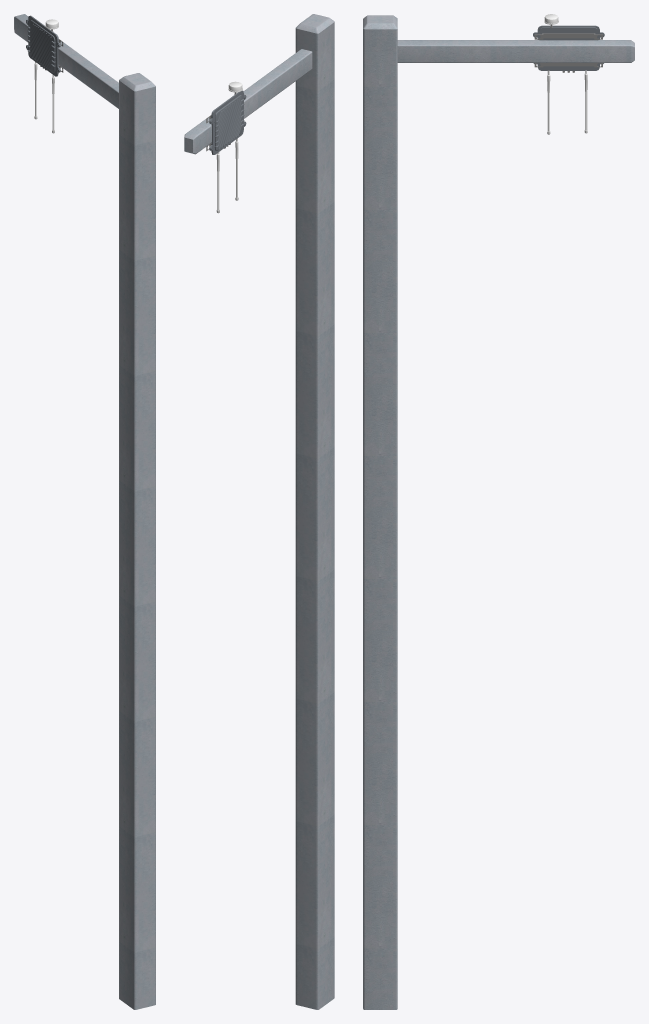
File: RSU_2.FBX
The picture shows the model from 3 angles, left to right: view 1: azimuth 30°, elevation 25°; view 2: azimuth 150°, elevation 25°; view 3: azimuth 270°, elevation 25°; orthographic projection. The views are drawn at different scales.
Parts seen in each view (by area): view 1: RSU_2; view 2: RSU_2; view 3: RSU_2.
Part boxes in pixels (bbox=[...]): RSU_2: bbox=[14, 14, 155, 1009]; RSU_2: bbox=[184, 14, 334, 1009]; RSU_2: bbox=[363, 14, 634, 1009].
Bounding box in the file's own units: 0.1009 × 4 × 1.
4 materials, 1 textured.
